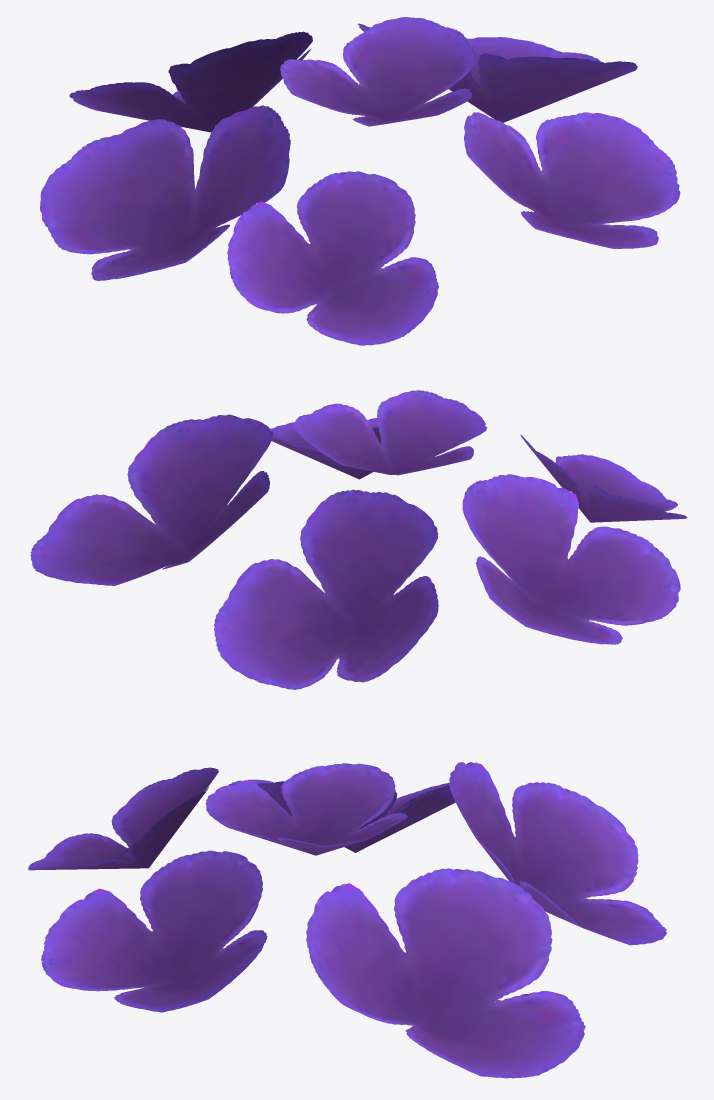
File: plante-7.glb
3 renders of one model, top to bottom at view 1: azimuth 30°, elevation 25°; view 2: azimuth 150°, elevation 25°; view 3: azimuth 270°, elevation 25°, orthographic. The views are drawn at different scales.
Parts seen in each view (by area): view 1: Plant_7; view 2: Plant_7; view 3: Plant_7.
Boxes of the visible parts, x1,y1,x2,y2 form: Plant_7: [40, 17, 680, 345]; Plant_7: [30, 390, 687, 689]; Plant_7: [28, 762, 666, 1078].
Size of the model in its own units: 1.05 by 0.2495 by 0.9621.
1 material, 1 textured.
